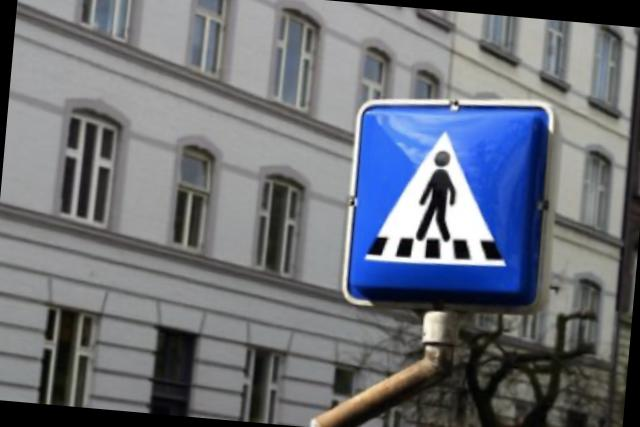crosswalk-sign: (339, 85, 560, 321)
